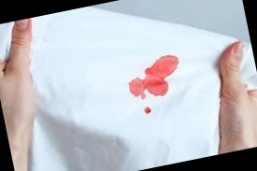blood: (124, 53, 185, 103), (143, 106, 152, 115)
